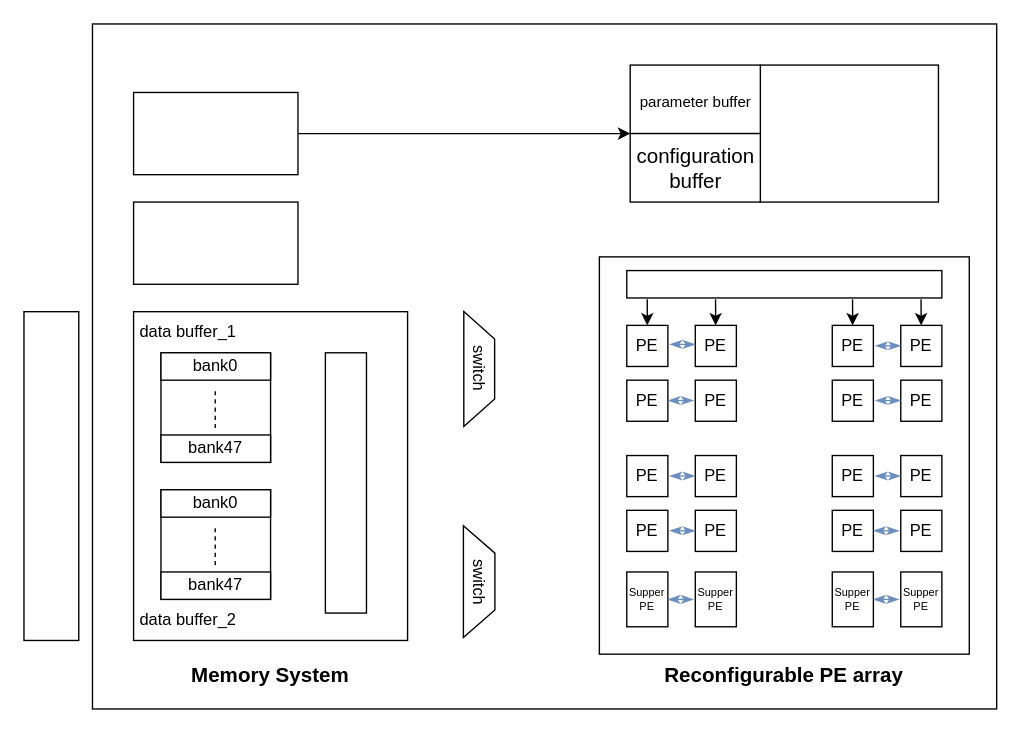
Some shapes in this 1021 by 733 pixel diagram are drawn without their labels. Each missing label, with the centre of its shape:
Buffer control: the point at 345,482
configurable IO & Decoder: the point at 215,133
external memory: the point at 51,475
finite-state controller: the point at 848,133
local buffer: the point at 783,283
Weight Buffer: the point at 215,242
